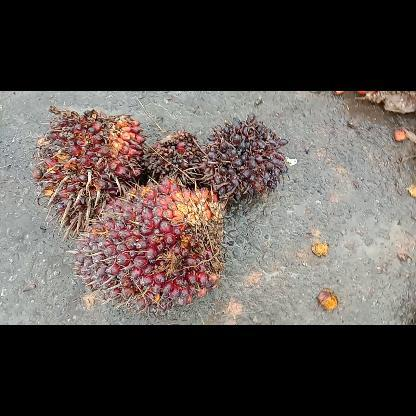TBS abnormal: (189, 115, 290, 205), (140, 130, 206, 192)
TBS masak: (66, 175, 226, 315), (30, 102, 146, 236)
